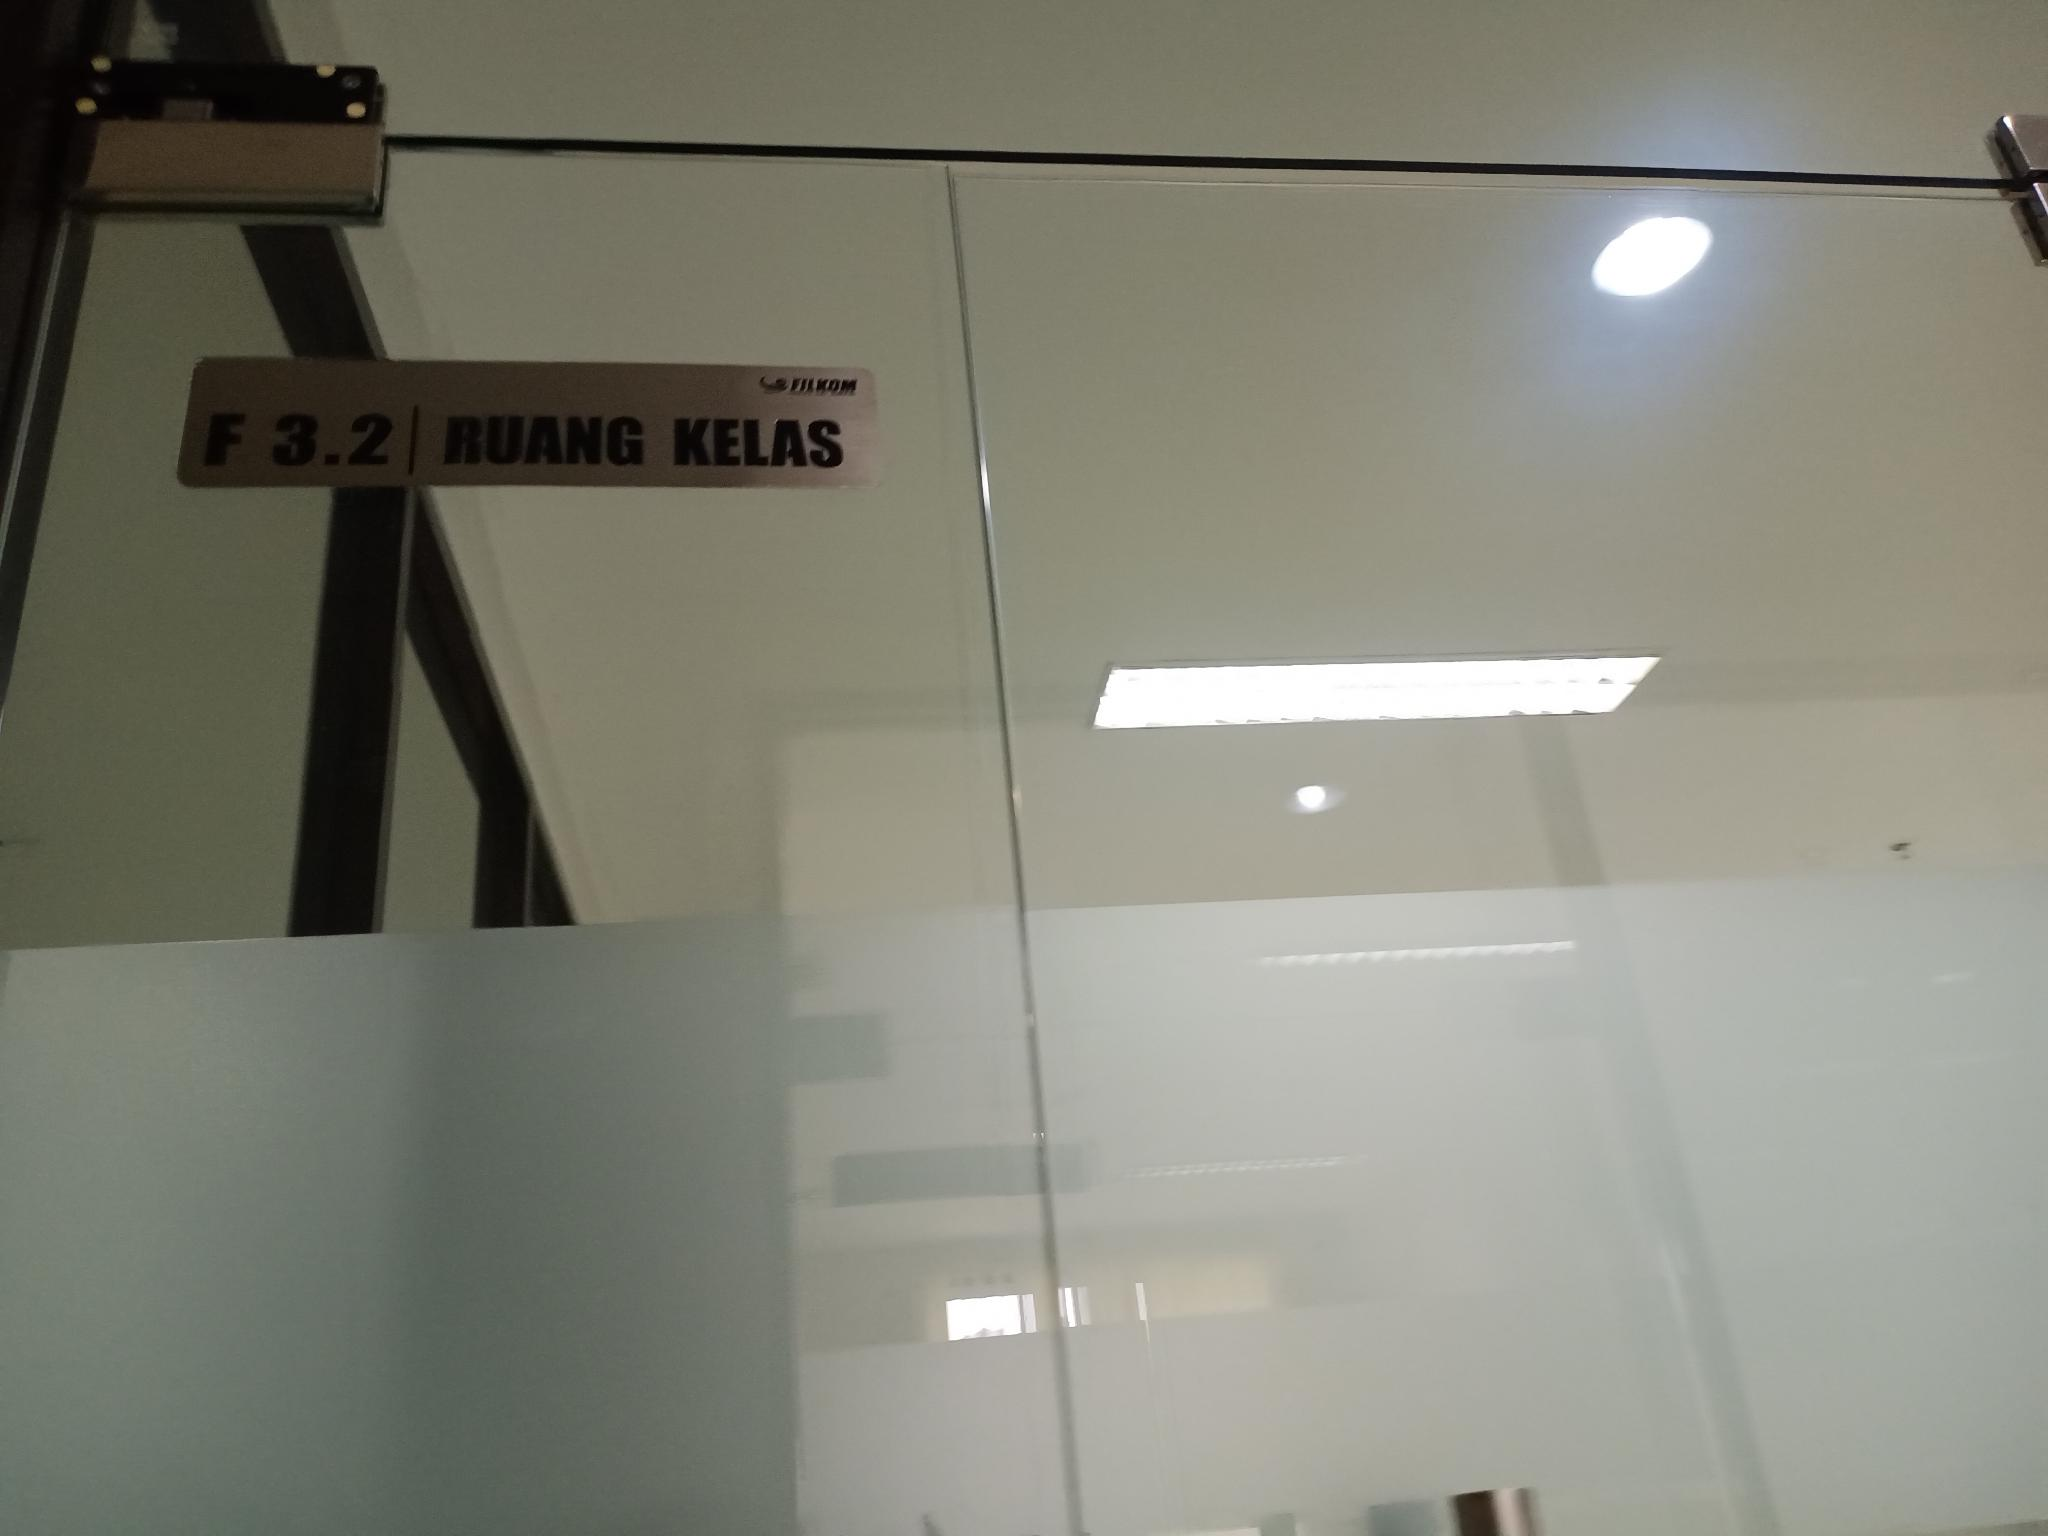plate: (171, 355, 884, 492)
